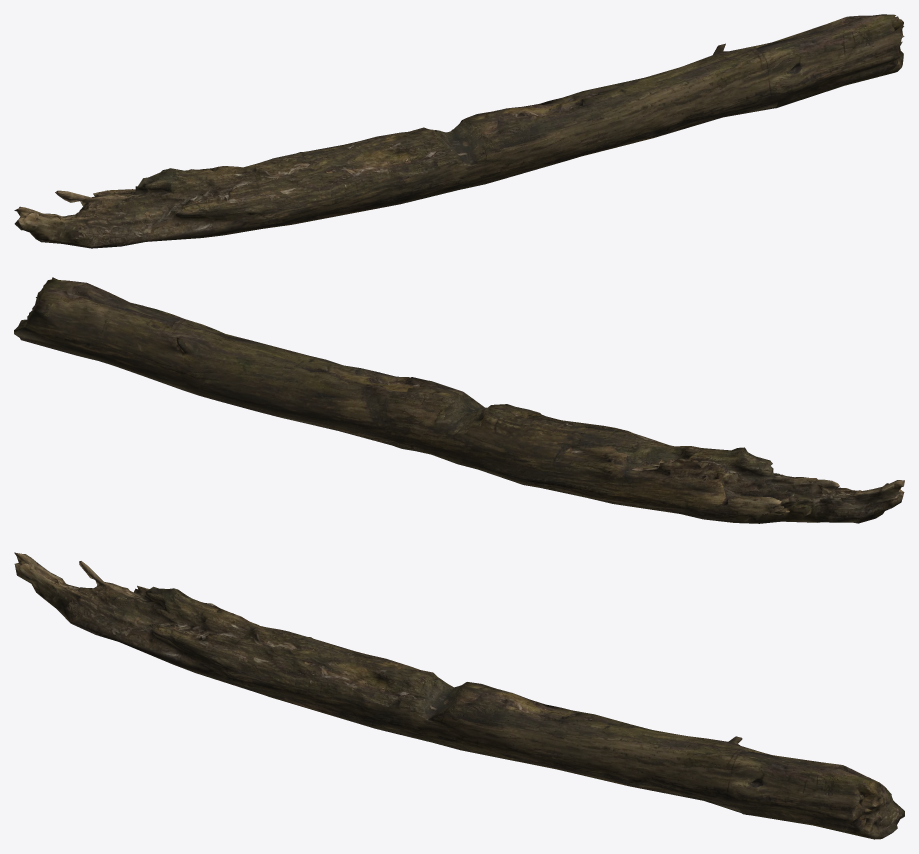
Rendered from dead_tree_trunk.glb.
3 renders of one model, top to bottom at view 1: azimuth 30°, elevation 25°; view 2: azimuth 150°, elevation 25°; view 3: azimuth 330°, elevation 25°, orthographic.
Parts seen in each view (by area): view 1: dead_tree_trunk; view 2: dead_tree_trunk; view 3: dead_tree_trunk.
Part boxes in pixels (left/top/right/bottom): dead_tree_trunk: left=14, top=14, right=904, bottom=248; dead_tree_trunk: left=14, top=277, right=904, bottom=523; dead_tree_trunk: left=14, top=552, right=904, bottom=839.
Size of the model in its own units: 3.05 by 0.2867 by 0.2763.
Materials: 1 (1 with a texture image).
